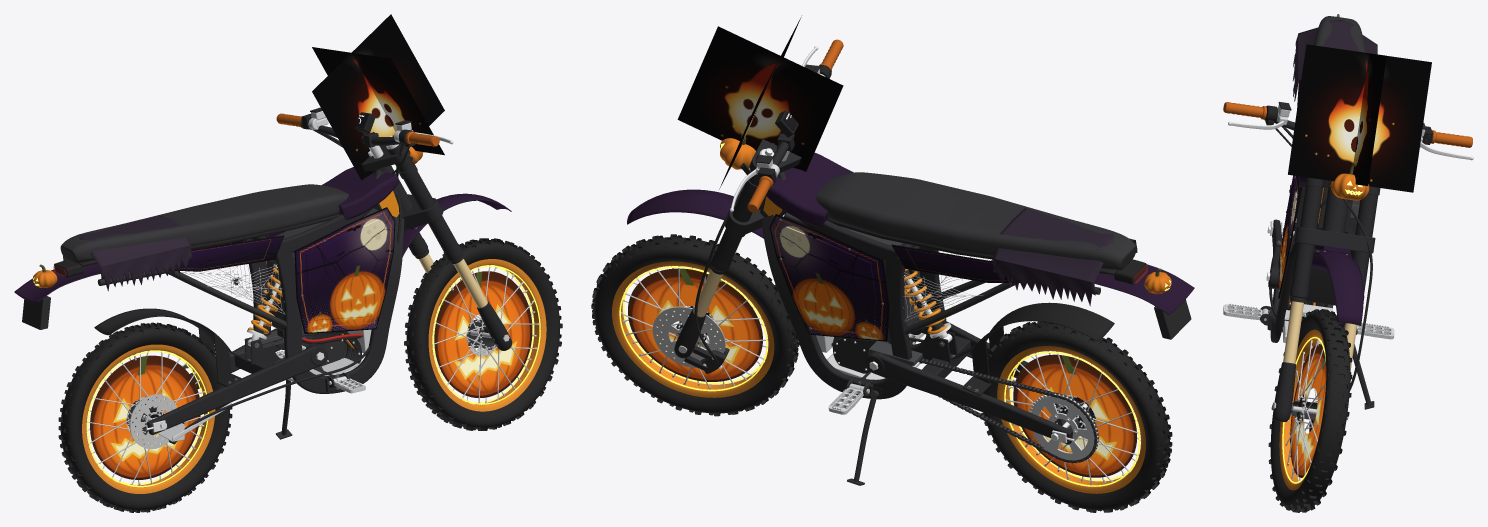
The model's file is surron-light-bee-x-hollow.glb.
The picture shows the model from 3 angles, left to right: view 1: azimuth 30°, elevation 25°; view 2: azimuth 150°, elevation 25°; view 3: azimuth 270°, elevation 25°; orthographic projection. The views are drawn at different scales.
Visible parts, largest first — view 1: Acc_Spirit, Tire_R, Tire_F, Seat, Acc_JackWheel_R, Acc_JackWheel_F, Frame_Main, SidePanel_Inner_R, Swingarm_Arms, Prop_Shroud, SidePanel_R, Rim_F (+22 smaller); view 2: Seat, Acc_Spirit, Tire_F, Tire_R, Frame_Main, Acc_JackWheel_F, Acc_JackWheel_R, SidePanel_Inner_L, Prop_Shroud, Swingarm_Arms, SidePanel_L, Rim_F (+23 smaller); view 3: Acc_Spirit, Tire_F, FrontFender, Acc_JackWheel_F, Fork_Upper_R, Prop_Shroud, Frame_Main, Rim_F, Battery_Pack, Spokes_F, TripleClamp_Lower, Fork_Upper_L (+17 smaller).
Boxes of the visible parts, box(x1,y1,x2,y2) form: Acc_Spirit: box(312, 14, 444, 180); Tire_R: box(58, 322, 232, 512); Tire_F: box(404, 238, 562, 430); Seat: box(60, 184, 348, 263); Acc_JackWheel_R: box(90, 355, 200, 479); Acc_JackWheel_F: box(434, 271, 532, 397); Frame_Main: box(242, 167, 404, 393); SidePanel_Inner_R: box(306, 219, 386, 320); Swingarm_Arms: box(146, 328, 327, 434); Prop_Shroud: box(63, 215, 192, 291); SidePanel_R: box(294, 207, 395, 333); Rim_F: box(428, 259, 546, 411); Seat: box(816, 172, 1136, 270); Acc_Spirit: box(677, 17, 843, 189); Tire_F: box(591, 234, 799, 416); Tire_R: box(981, 321, 1172, 512); Frame_Main: box(760, 171, 946, 399); Acc_JackWheel_F: box(628, 268, 762, 381); Acc_JackWheel_R: box(1013, 354, 1136, 477); SidePanel_Inner_L: box(780, 226, 876, 328); Prop_Shroud: box(993, 208, 1137, 306); Swingarm_Arms: box(865, 311, 1072, 444); SidePanel_L: box(769, 214, 889, 341); Rim_F: box(612, 261, 774, 397); Acc_Spirit: box(1288, 44, 1431, 192); Tire_F: box(1268, 309, 1352, 512); FrontFender: box(1311, 250, 1363, 325); Acc_JackWheel_F: box(1290, 344, 1326, 477); Fork_Upper_R: box(1289, 185, 1322, 298); Prop_Shroud: box(1292, 20, 1377, 101); Frame_Main: box(1267, 182, 1355, 342); Rim_F: box(1279, 329, 1324, 490); Battery_Pack: box(1289, 187, 1360, 305); Spokes_F: box(1285, 339, 1325, 481); TripleClamp_Lower: box(1294, 226, 1375, 253); Fork_Upper_L: box(1352, 194, 1378, 300).
Bounding box in the file's own units: 1.97 × 1.4 × 0.7598.
Materials: 45 (4 with a texture image).
